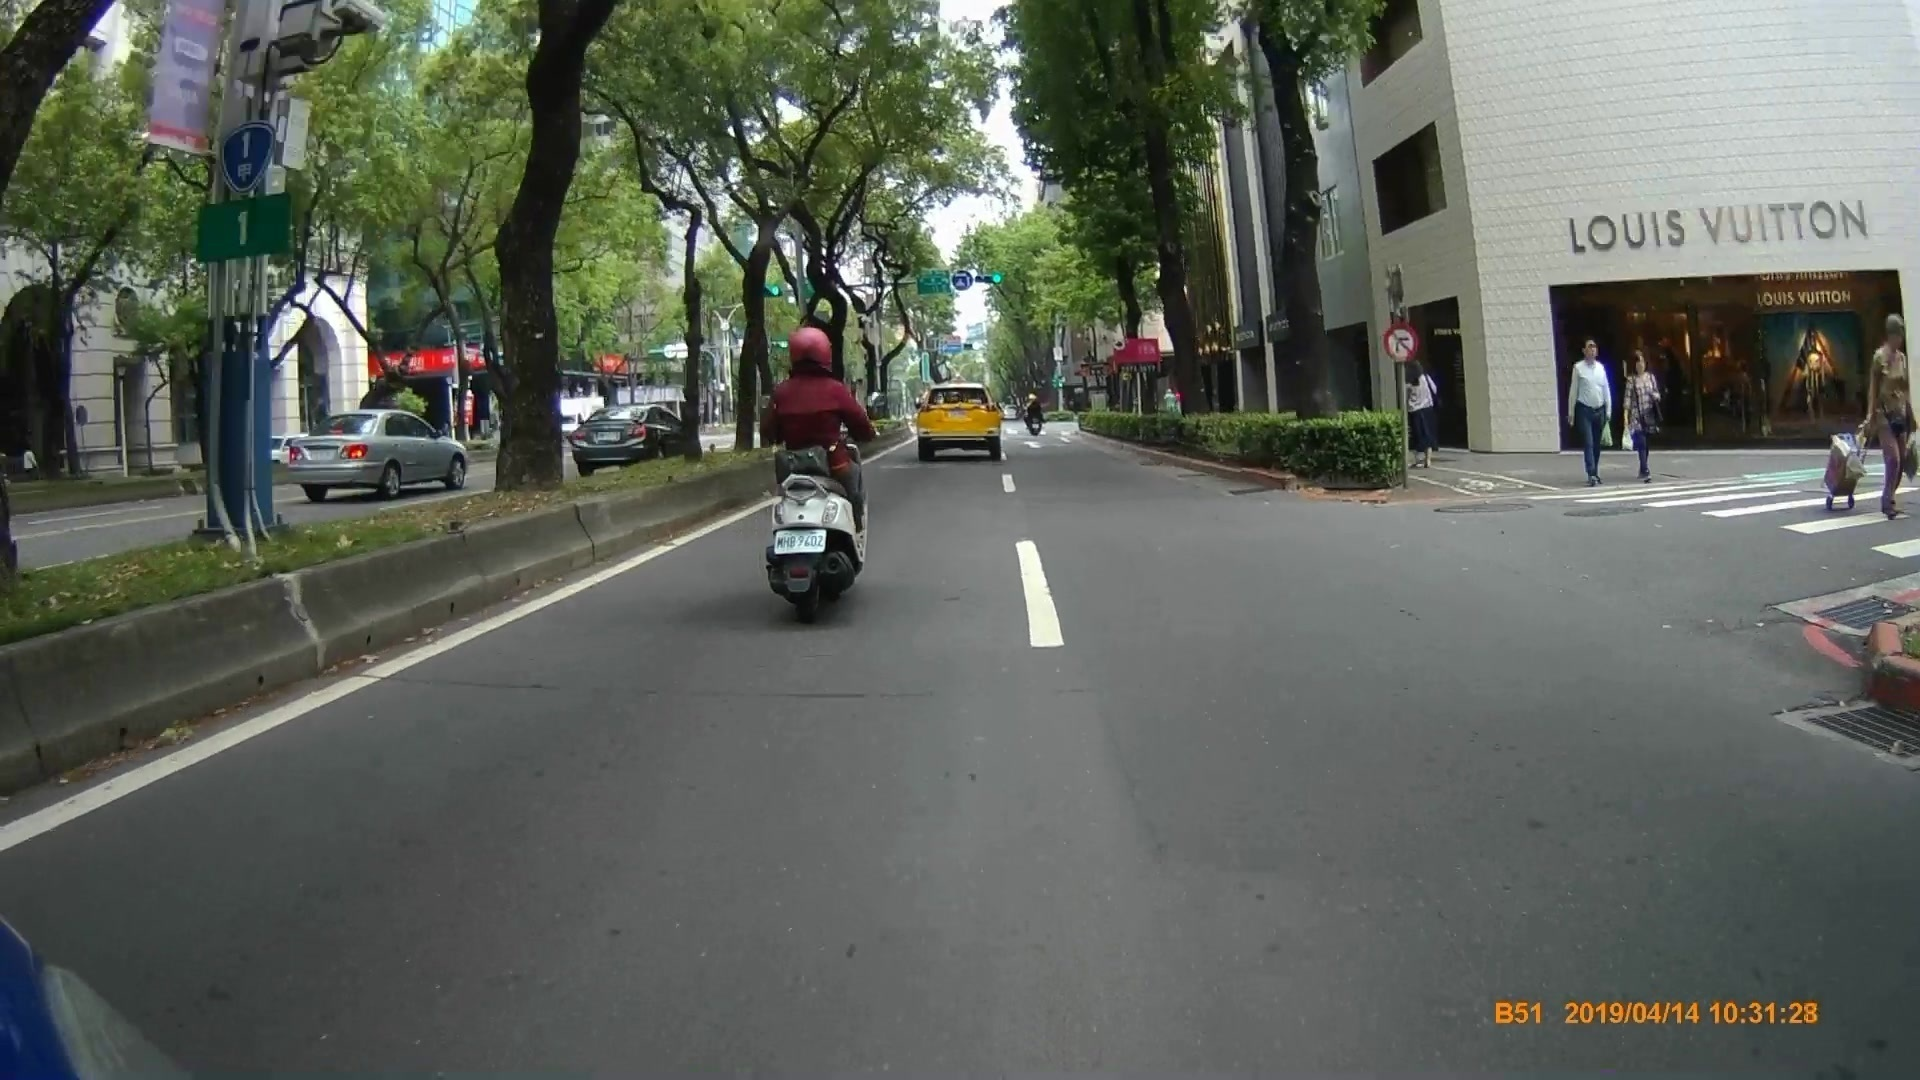License_plate: (773, 525, 826, 556), (306, 447, 342, 462)
